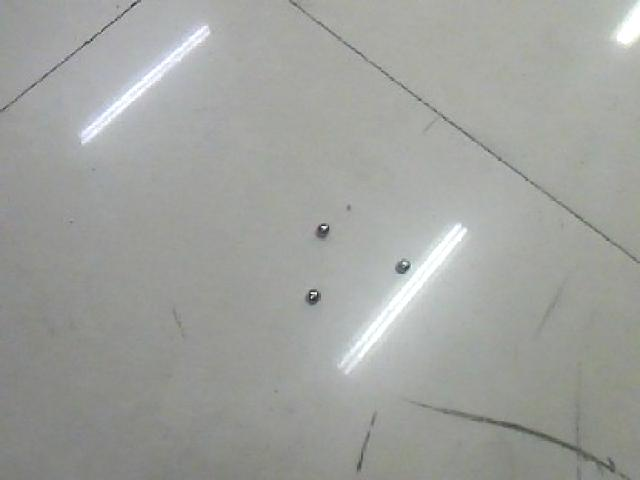steel-ball: (380, 243, 423, 291), (300, 203, 338, 248), (297, 274, 323, 312)
